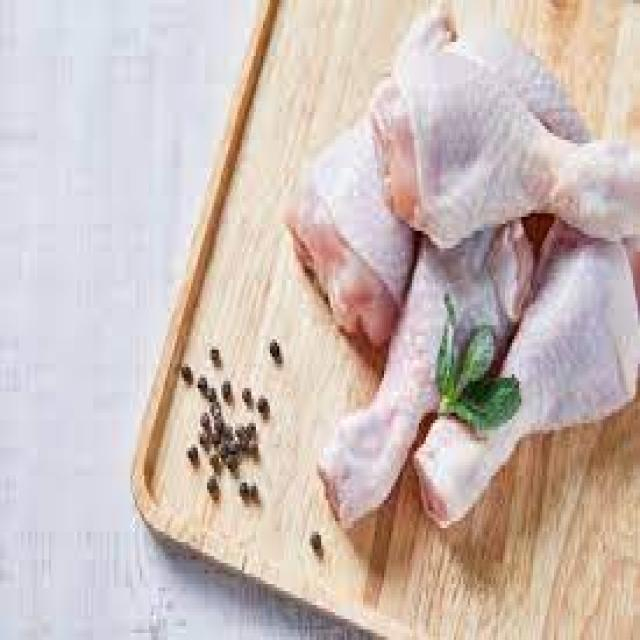chicken: (312, 208, 536, 538), (415, 215, 640, 526), (367, 36, 640, 262), (291, 13, 468, 340)
